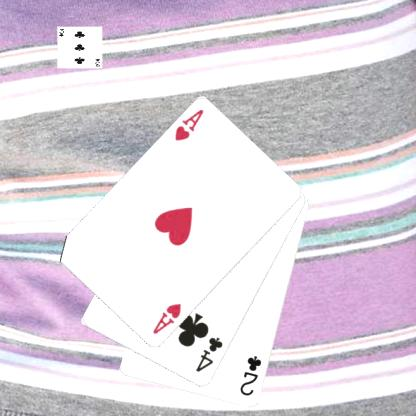2C: (237, 353, 263, 398)
4C: (193, 334, 224, 374)
AH: (149, 300, 183, 336), (172, 107, 205, 143)
